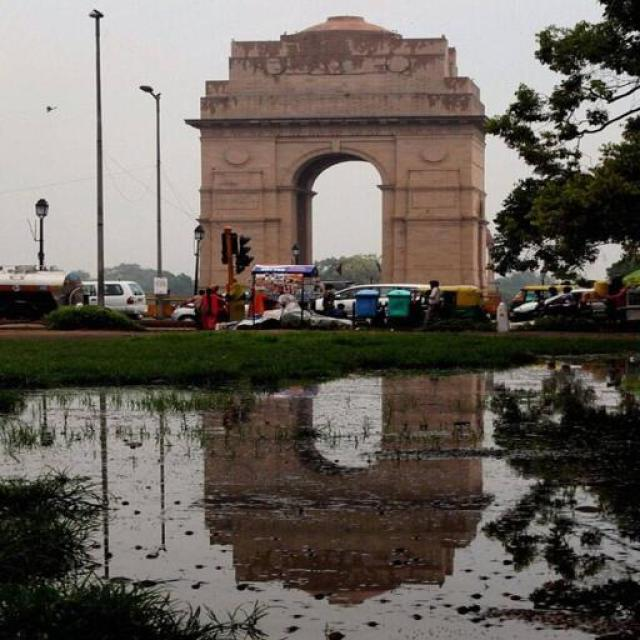puddle: (63, 376, 493, 597)
